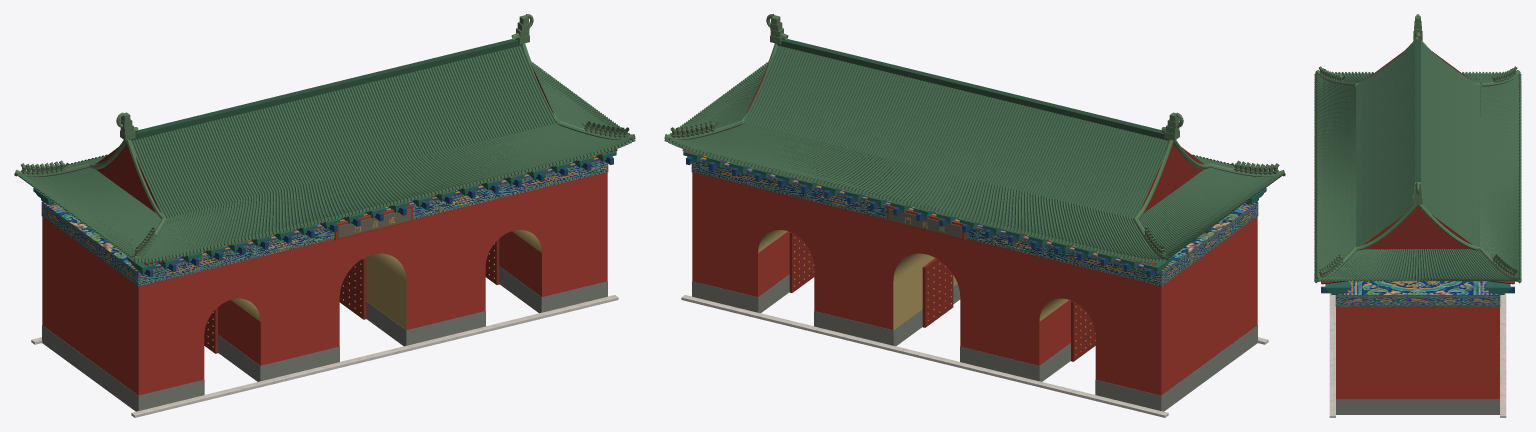
Rendered from chengzhen-detail.glb.
3 views of the same model, side by side, from view 1: azimuth 30°, elevation 25°; view 2: azimuth 150°, elevation 25°; view 3: azimuth 270°, elevation 25° (orthographic). The views are drawn at different scales.
Parts seen in each view (by area): view 1: chengzhen tile.001, chengzhen red.001, chengzhen roof.001, chengzhen base.001, chengzhen frieze.001, chengzhen redDark.001, chengzhen gold.001, chengzhen stone.001, chengzhen ochre.001, chengzhen jade.001, chengzhen blue.001, chengzhen plaque.001; view 2: chengzhen tile.001, chengzhen red.001, chengzhen roof.001, chengzhen base.001, chengzhen frieze.001, chengzhen redDark.001, chengzhen gold.001, chengzhen stone.001, chengzhen jade.001, chengzhen ochre.001, chengzhen blue.001, chengzhen plaque.001; view 3: chengzhen tile.001, chengzhen red.001, chengzhen frieze.001, chengzhen gold.001, chengzhen base.001, chengzhen roof.001, chengzhen redDark.001, chengzhen stone.001, chengzhen jade.001.
Part boxes in pixels (x1=…): chengzhen tile.001: x1=14, y1=45, x2=635, y2=263; chengzhen red.001: x1=42, y1=172, x2=607, y2=395; chengzhen roof.001: x1=17, y1=39, x2=554, y2=260; chengzhen base.001: x1=42, y1=266, x2=607, y2=411; chengzhen frieze.001: x1=41, y1=155, x2=608, y2=286; chengzhen redDark.001: x1=96, y1=63, x2=617, y2=353; chengzhen gold.001: x1=14, y1=14, x2=635, y2=261; chengzhen stone.001: x1=31, y1=295, x2=618, y2=417; chengzhen ochre.001: x1=231, y1=230, x2=541, y2=329; chengzhen jade.001: x1=33, y1=150, x2=616, y2=274; chengzhen blue.001: x1=36, y1=156, x2=613, y2=277; chengzhen plaque.001: x1=338, y1=208, x2=411, y2=237; chengzhen tile.001: x1=664, y1=45, x2=1285, y2=263; chengzhen red.001: x1=692, y1=172, x2=1257, y2=395; chengzhen roof.001: x1=745, y1=39, x2=1282, y2=260; chengzhen base.001: x1=692, y1=274, x2=1257, y2=411; chengzhen frieze.001: x1=691, y1=155, x2=1258, y2=286; chengzhen redDark.001: x1=682, y1=63, x2=1203, y2=361; chengzhen gold.001: x1=664, y1=14, x2=1285, y2=261; chengzhen stone.001: x1=681, y1=295, x2=1268, y2=417; chengzhen jade.001: x1=683, y1=150, x2=1266, y2=274; chengzhen ochre.001: x1=758, y1=230, x2=1068, y2=329; chengzhen blue.001: x1=686, y1=156, x2=1263, y2=277; chengzhen plaque.001: x1=888, y1=208, x2=961, y2=237; chengzhen tile.001: x1=1314, y1=42, x2=1521, y2=283; chengzhen red.001: x1=1336, y1=307, x2=1499, y2=399; chengzhen frieze.001: x1=1335, y1=281, x2=1500, y2=306; chengzhen gold.001: x1=1315, y1=14, x2=1520, y2=281; chengzhen base.001: x1=1336, y1=399, x2=1499, y2=414; chengzhen roof.001: x1=1324, y1=38, x2=1511, y2=281; chengzhen redDark.001: x1=1321, y1=51, x2=1514, y2=284; chengzhen stone.001: x1=1329, y1=293, x2=1506, y2=417; chengzhen jade.001: x1=1325, y1=281, x2=1510, y2=294.
Bounding box in the file's own units: 0.2369 × 0.1158 × 0.0993.
Materials: 14 (2 with a texture image).
